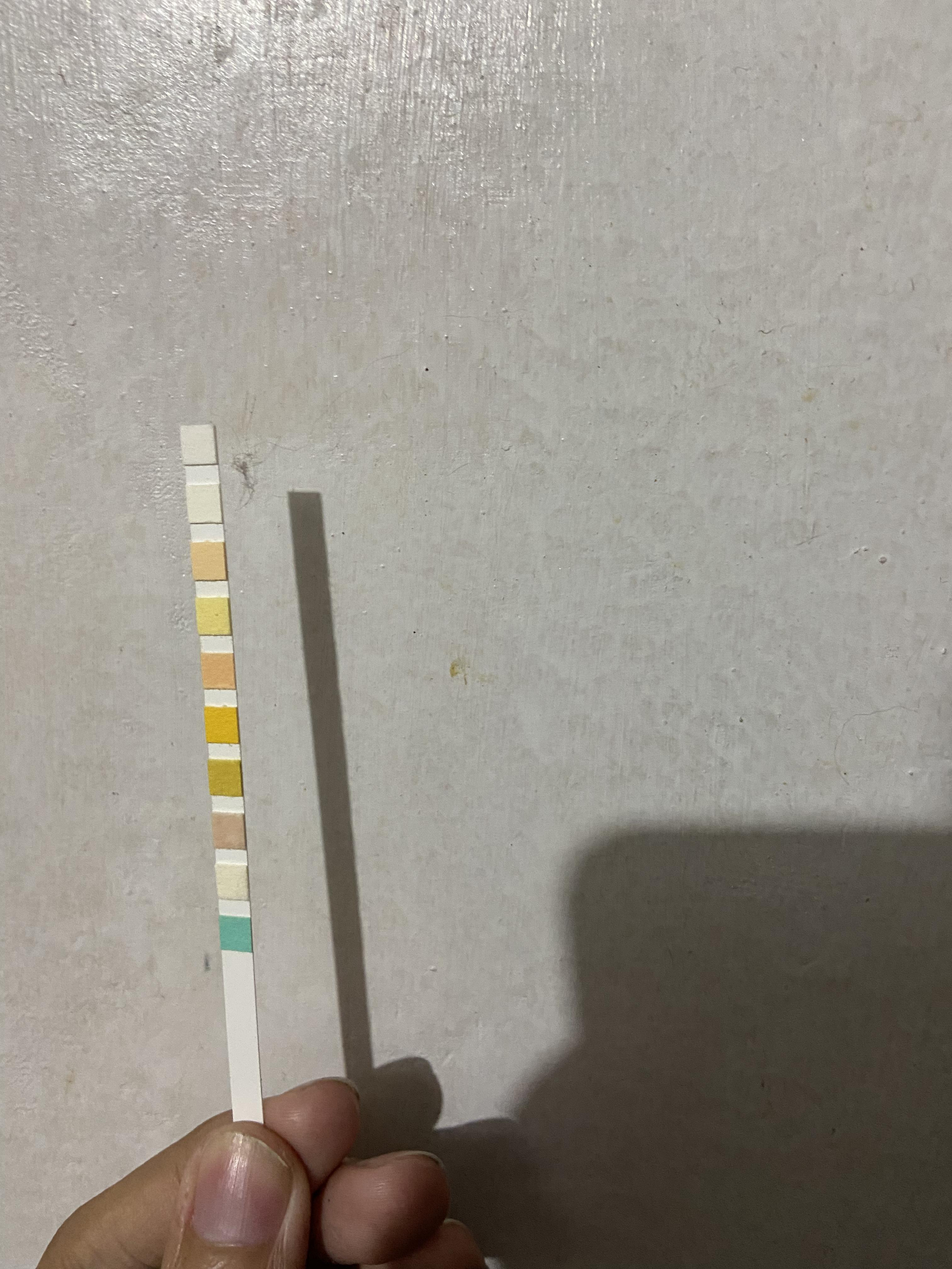Bilirubin: (219, 865, 249, 899)
Blood: (206, 707, 238, 743)
Glucose: (221, 917, 251, 950)
Ketone: (213, 813, 245, 849)
Leukocytes: (183, 427, 214, 464)
Nitrite: (189, 485, 219, 523)
Protein: (198, 598, 230, 635)
SpGravity: (210, 759, 242, 796)
Urobilinogen: (194, 543, 224, 580)
pH: (203, 653, 234, 689)
strip: (181, 425, 263, 1116)
